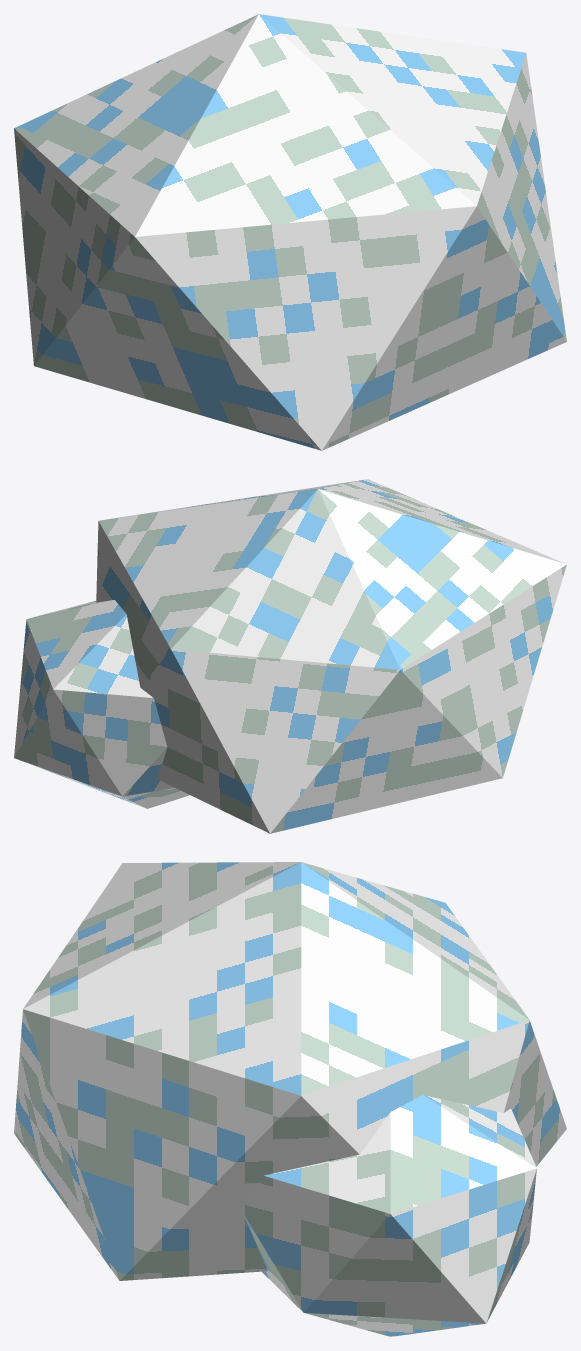
File: a84_terraco_de_jardim.glb
The picture shows the model from 3 angles, top to bottom: view 1: azimuth 30°, elevation 25°; view 2: azimuth 150°, elevation 25°; view 3: azimuth 270°, elevation 25°; orthographic projection. The views are drawn at different scales.
Parts seen in each view (by area): view 1: a84_terraco_de_jardim; view 2: a84_terraco_de_jardim; view 3: a84_terraco_de_jardim.
Part boxes in pixels (<box>): a84_terraco_de_jardim: <box>14,14,566,450</box>; a84_terraco_de_jardim: <box>14,479,566,833</box>; a84_terraco_de_jardim: <box>14,862,566,1336</box>.
Size of the model in its own units: 1.38 by 0.9818 by 1.24.
1 material, 1 textured.
